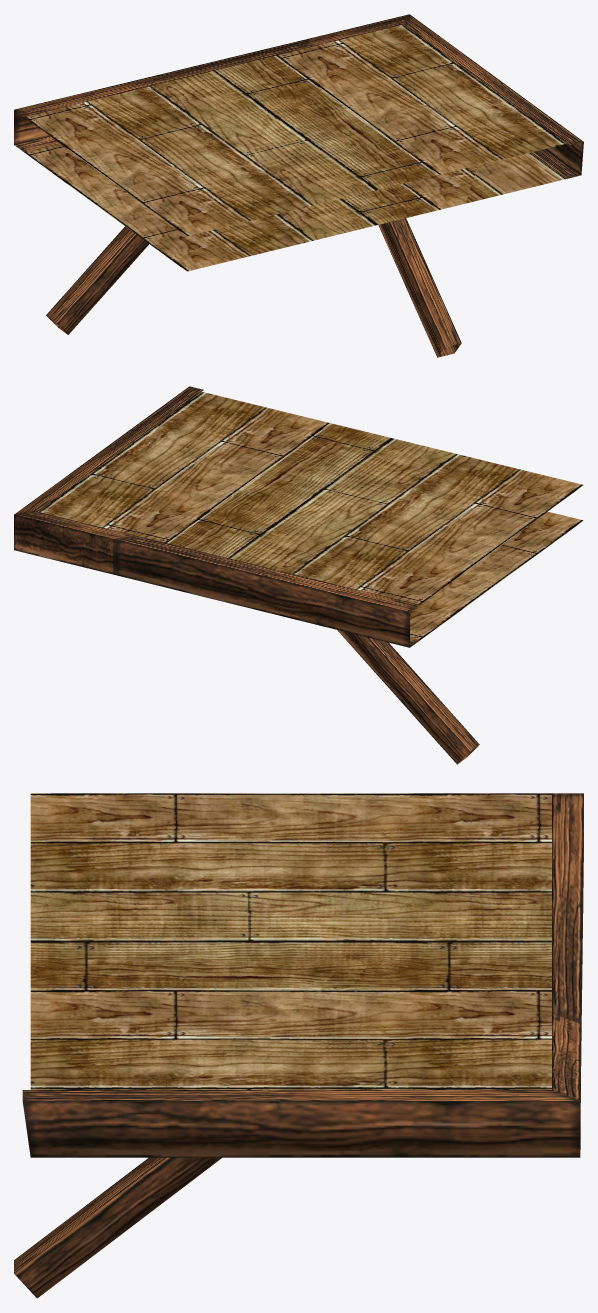
Rendered from LAKETOWN_WAREHOUSE3_PS_WH3_PLATFORM37373__GX.fbx.
The picture shows the model from 3 angles, top to bottom: view 1: azimuth 30°, elevation 25°; view 2: azimuth 150°, elevation 25°; view 3: azimuth 270°, elevation 25°; orthographic projection. The views are drawn at different scales.
Visible parts, largest first — view 1: LAKETOWN_WAREHOUSE3_PS_WH3_PLATFORM37373__GX; view 2: LAKETOWN_WAREHOUSE3_PS_WH3_PLATFORM37373__GX; view 3: LAKETOWN_WAREHOUSE3_PS_WH3_PLATFORM37373__GX.
Part boxes in pixels (bbox=[...]): LAKETOWN_WAREHOUSE3_PS_WH3_PLATFORM37373__GX: bbox=[14, 14, 583, 357]; LAKETOWN_WAREHOUSE3_PS_WH3_PLATFORM37373__GX: bbox=[14, 386, 583, 764]; LAKETOWN_WAREHOUSE3_PS_WH3_PLATFORM37373__GX: bbox=[14, 793, 583, 1298].
Bounding box in the file's own units: 41556 × 17935 × 31409.
2 materials, 2 textured.
